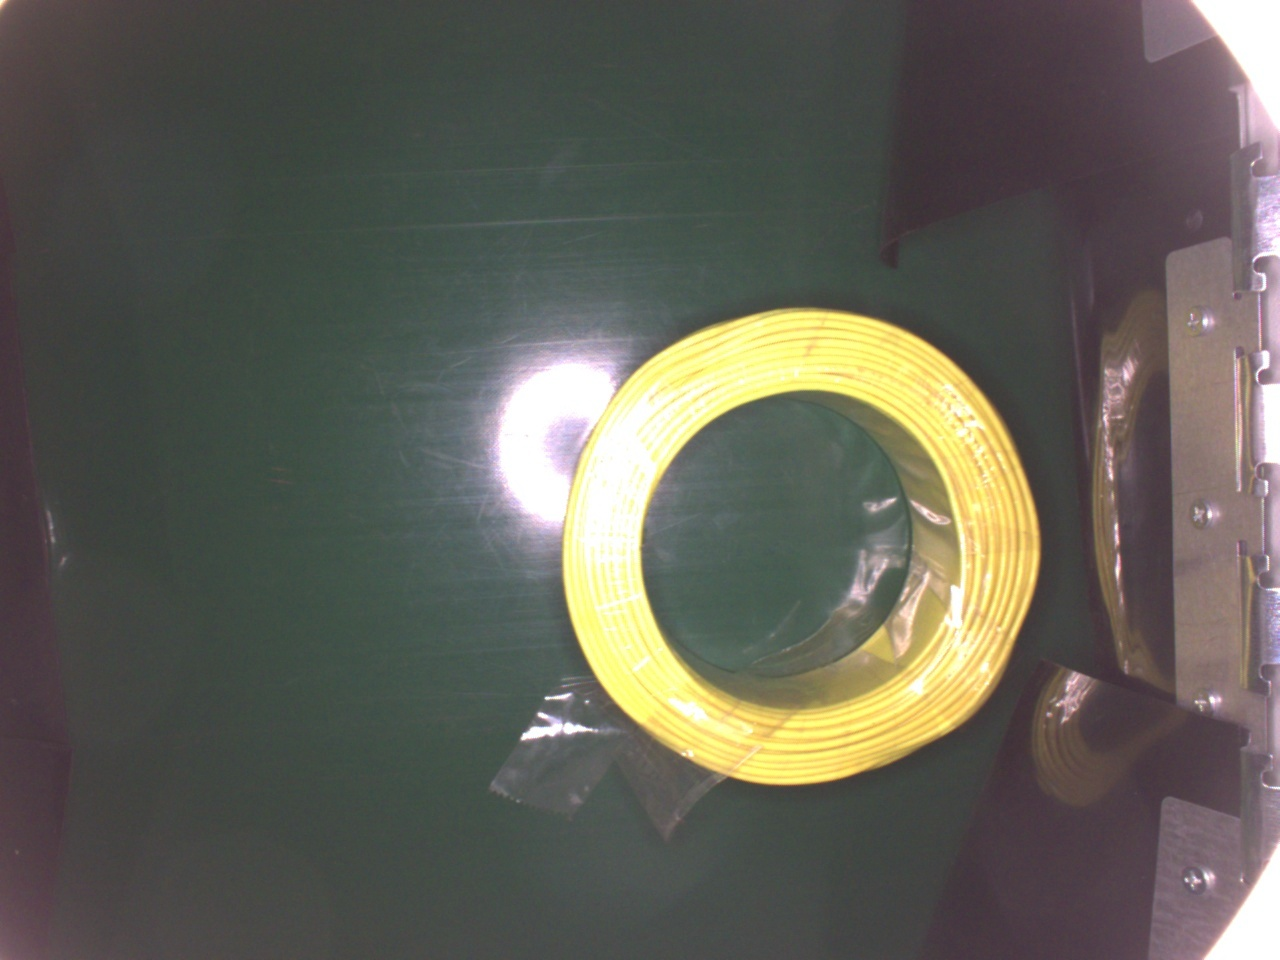yellow: (561, 305, 1046, 794)
